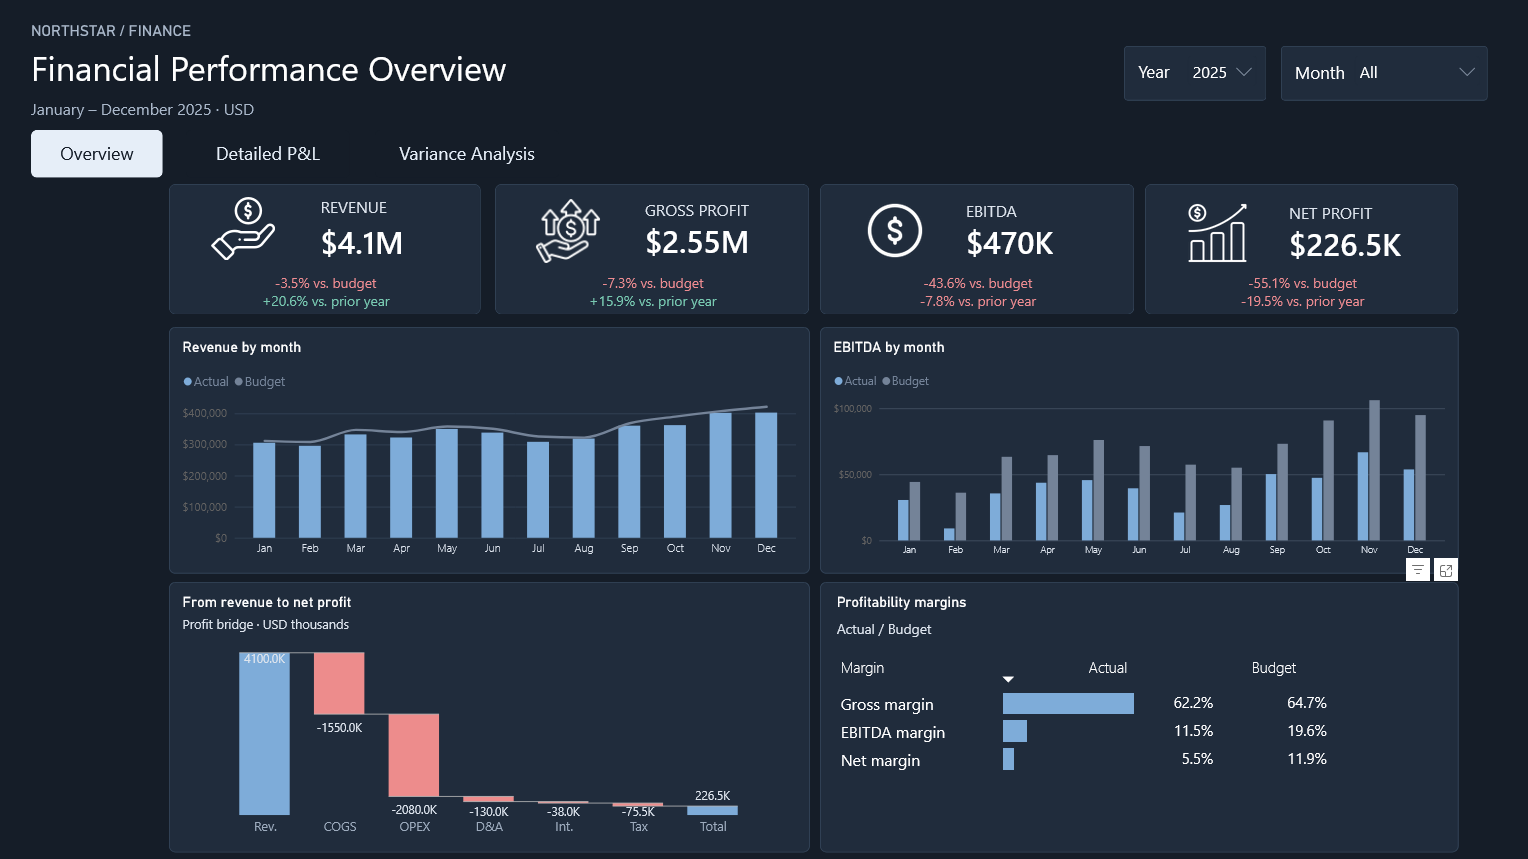

This screenshot's page, from the dashboard's own definition file:
{"tool":"powerbi","page":{"name":"Profit and Loss Overview","canvas":[1920,1080],"ordinal":0},"visuals":[{"type":"textbox","box":[38.6,27.1,215.7,27.1],"z":0,"group":"g1"},{"type":"group","id":"g1","title":"Group 3","box":[38.6,27.1,631.4,125.7],"z":0},{"type":"shape","box":[1610.5,57.9,259.9,68.7],"z":0,"group":"g3"},{"type":"shape","box":[1412.6,58.2,179.1,68.7],"z":0,"group":"g2"},{"type":"group","id":"g2","title":"Group 1","box":[1412.6,58.2,179.1,68.7],"z":0,"group":"g4"},{"type":"cardVisual","fields":{"Data":["Measures_.Revenue"]},"box":[212.9,231.4,392.9,164.3],"z":0,"group":"g5"},{"type":"textbox","box":[38.6,54.2,631.4,58.6],"z":1000,"group":"g1"},{"type":"group","id":"g3","title":"Group 2","box":[1610.5,57.9,259.9,68.7],"z":1000,"group":"g4"},{"type":"slicer","fields":{"Values":["Dim_Date.MonthName"]},"box":[1698.4,65.6,167.1,47.1],"z":1000,"group":"g3"},{"type":"slicer","fields":{"Values":["Dim_Date.Year"]},"box":[1488.6,65.7,96.5,46.5],"z":1000,"group":"g2"},{"type":"actionButton","box":[38.6,162.9,165.6,60],"z":1000},{"type":"group","id":"g4","title":"Group 5","box":[1412.6,57.9,457.9,68.7],"z":2000},{"type":"textbox","box":[1419,76.1,63,28.7],"z":2000,"group":"g2"},{"type":"textbox","box":[1628.6,76.2,70,28.9],"z":2000,"group":"g3"},{"type":"cardVisual","fields":{"Data":["Measures_.Overview Subtitle"]},"box":[38.6,117.1,600,35.7],"z":2000,"group":"g1"},{"type":"cardVisual","fields":{"Data":["Measures_.Gross Profit"]},"box":[622.9,231.4,395.7,164.3],"z":2000,"group":"g5"},{"type":"actionButton","box":[234.3,162.9,206,60],"z":3000},{"type":"actionButton","box":[471.3,162.9,231.6,60],"z":4000},{"type":"cardVisual","fields":{"Data":["Measures_.EBITDA"]},"box":[1031.5,231.4,395.7,164.3],"z":4000,"group":"g5"},{"type":"lineClusteredColumnComboChart","title":"Revenue by month","fields":{"Category":["Dim_Date.MonthNameShort"],"Y":["Measures_.Revenue"],"Y2":["Measures_.Budget Revenue"]},"box":[212.9,411.4,805.7,310],"z":5000},{"type":"cardVisual","fields":{"Data":["Measures_.Net Profit"]},"box":[1440,231.4,394.3,164.3],"z":6000,"group":"g5"},{"type":"clusteredColumnChart","title":"EBITDA by month","fields":{"Category":["Dim_Date.MonthNameShort"],"Y":["Measures_.EBITDA","Measures_.Budget EBITDA"]},"box":[1031.4,411.4,802.9,310],"z":6000},{"type":"waterfallChart","title":"From revenue to net profit","fields":{"Category":["Waterfall_Steps.Step"],"Y":["Measures_.Waterfall Amount"]},"box":[212.9,731.4,805.7,340],"z":7000},{"type":"pivotTable","title":"Profitability margins","fields":{"Rows":["Margin_Layout.Margin"],"Values":["Measures_.Margin Actual","Measures_.Margin Budget"]},"box":[1031.4,731.4,802.9,340],"z":8000},{"type":"group","id":"g5","title":"Group 6","box":[212.9,231.4,1621.4,164.3],"z":9000}]}

Visuals, with their boxes in screenshot pixels (x1, y1, x2, y2), scaled from the page's 1920x1080 canvas onto the 1528x859 screenshot:
textbox: Rect(31, 22, 202, 43)
"Group 3" group: Rect(31, 22, 533, 122)
shape: Rect(1282, 46, 1489, 101)
shape: Rect(1124, 46, 1267, 101)
"Group 1" group: Rect(1124, 46, 1267, 101)
cardVisual - Measures_.Revenue: Rect(169, 184, 482, 315)
textbox: Rect(31, 43, 533, 90)
"Group 2" group: Rect(1282, 46, 1489, 101)
slicer - Dim_Date.MonthName: Rect(1352, 52, 1485, 90)
slicer - Dim_Date.Year: Rect(1185, 52, 1261, 89)
actionButton: Rect(31, 130, 163, 177)
"Group 5" group: Rect(1124, 46, 1489, 101)
textbox: Rect(1129, 61, 1179, 83)
textbox: Rect(1296, 61, 1352, 84)
cardVisual - Measures_.Overview Subtitle: Rect(31, 93, 508, 122)
cardVisual - Measures_.Gross Profit: Rect(496, 184, 811, 315)
actionButton: Rect(186, 130, 350, 177)
actionButton: Rect(375, 130, 559, 177)
cardVisual - Measures_.EBITDA: Rect(821, 184, 1136, 315)
"Revenue by month" lineClusteredColumnComboChart: Rect(169, 327, 811, 574)
cardVisual - Measures_.Net Profit: Rect(1146, 184, 1460, 315)
"EBITDA by month" clusteredColumnChart: Rect(821, 327, 1460, 574)
"From revenue to net profit" waterfallChart: Rect(169, 582, 811, 852)
"Profitability margins" pivotTable: Rect(821, 582, 1460, 852)
"Group 6" group: Rect(169, 184, 1460, 315)
